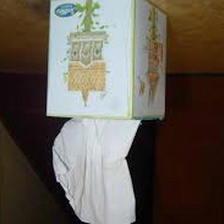plastic_box: (41, 0, 172, 126)
tissue: (47, 113, 146, 224)
